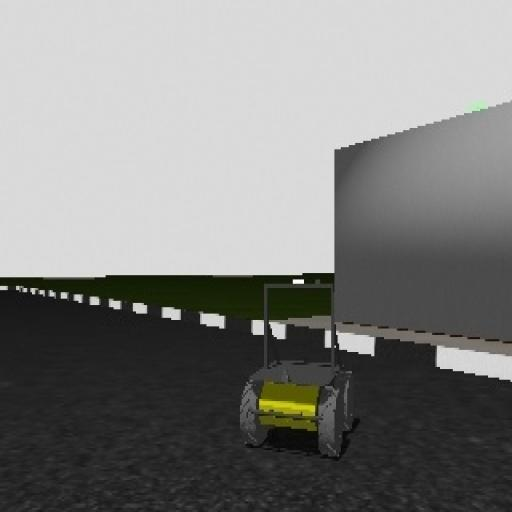huskya200: (233, 273, 365, 454)
